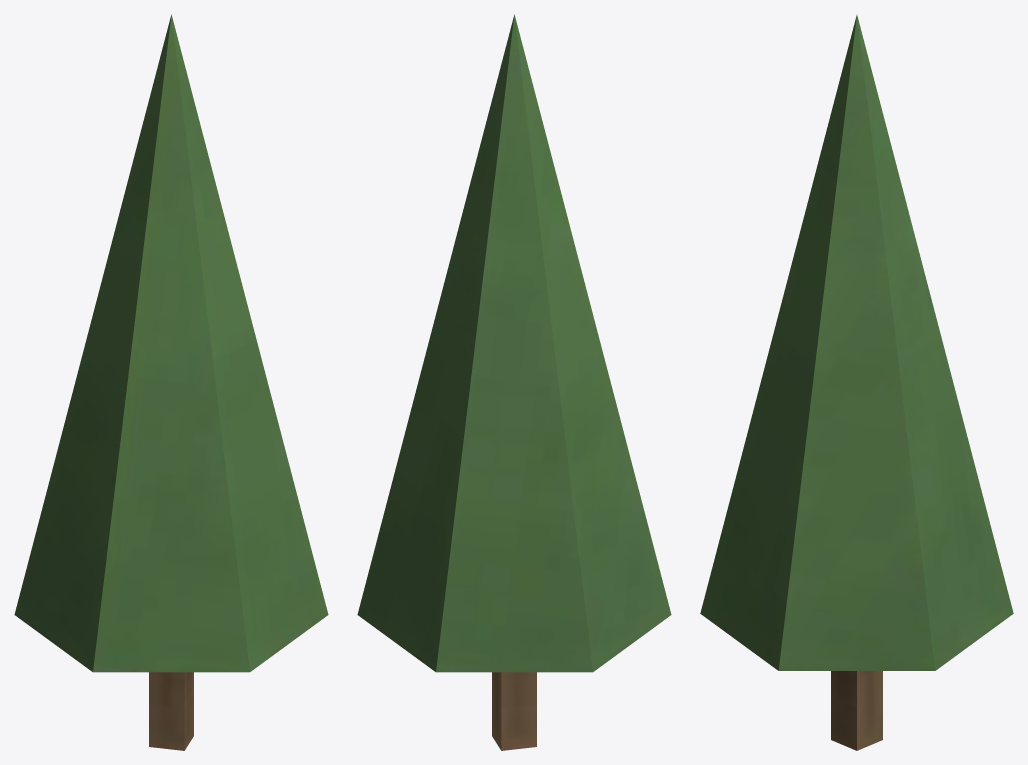
File: life-plant-modern-tree.glb
3 renders of one model, left to right at view 1: azimuth 30°, elevation 25°; view 2: azimuth 150°, elevation 25°; view 3: azimuth 270°, elevation 25°, orthographic.
Visible parts, largest first — view 1: life-plant-modern-tree; view 2: life-plant-modern-tree; view 3: life-plant-modern-tree.
Part boxes in pixels (x1,y1,x2,y2): life-plant-modern-tree: (14,14,328,750); life-plant-modern-tree: (357,14,671,750); life-plant-modern-tree: (700,15,1013,750).
Size of the model in its own units: 0.1559 by 0.46 by 0.18.
1 material, 1 textured.
